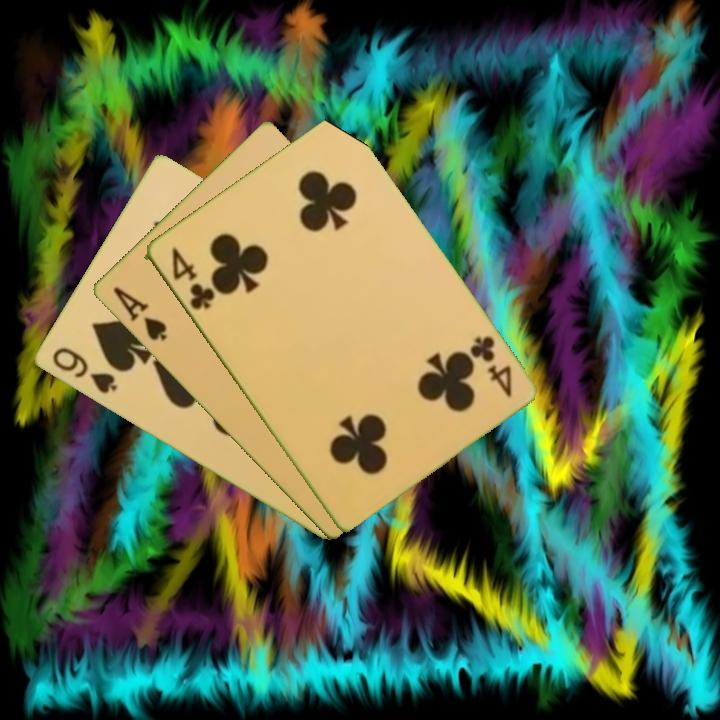4c: (167, 243, 217, 313), (465, 332, 515, 400)
9s: (48, 343, 120, 397)
As: (109, 282, 170, 344)
